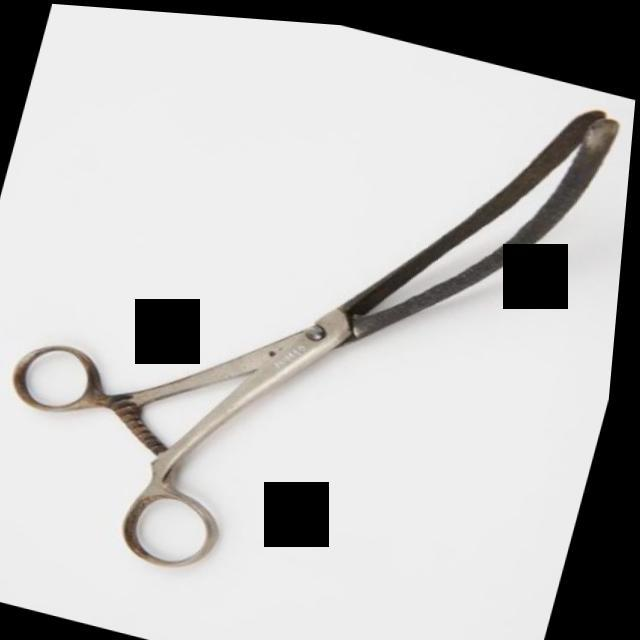Doyel Instestinal Forceps: (0, 1, 631, 640)
